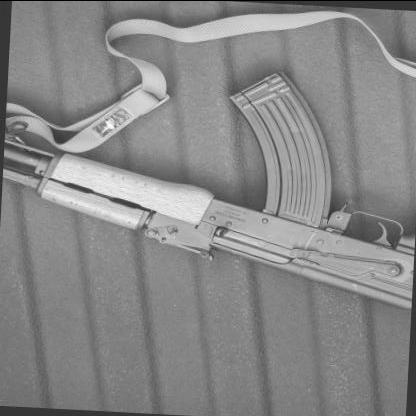rifle: (0, 61, 416, 330)
